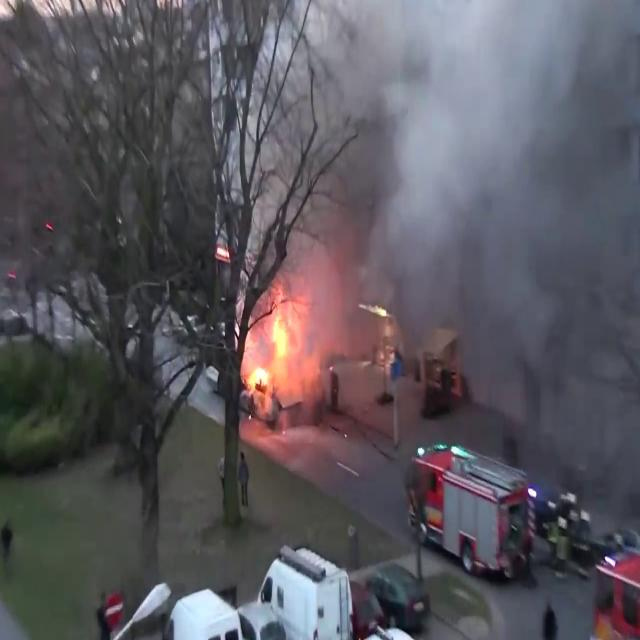Fire: (243, 286, 313, 401)
Smoke: (418, 10, 640, 524), (290, 0, 640, 292)
